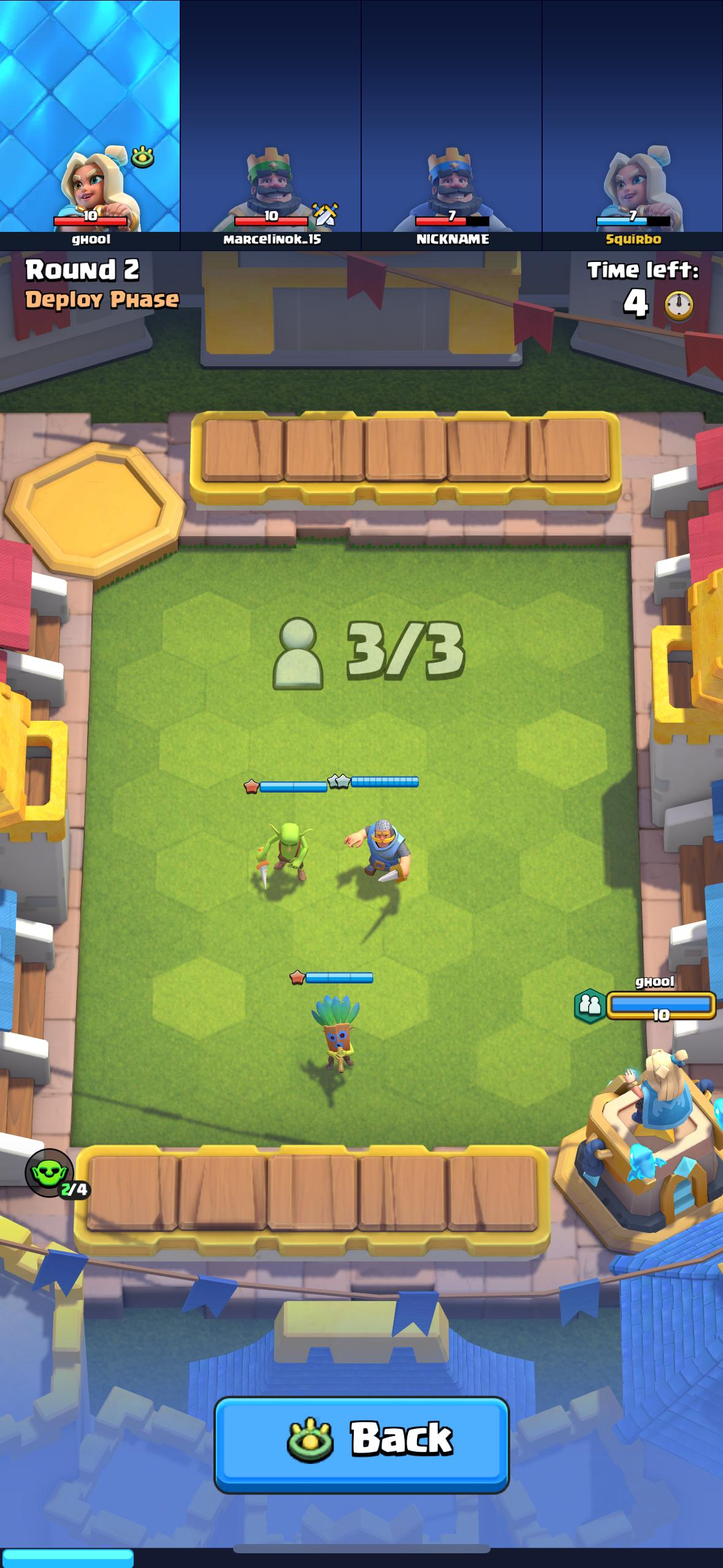dart: (308, 987, 365, 1078)
goblin: (252, 816, 314, 884)
knight: (346, 809, 413, 888)
